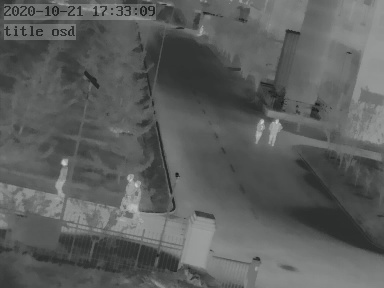person: (122, 171, 135, 219), (54, 158, 69, 199), (132, 180, 145, 219), (252, 117, 265, 146), (269, 116, 281, 145), (198, 24, 203, 36)
